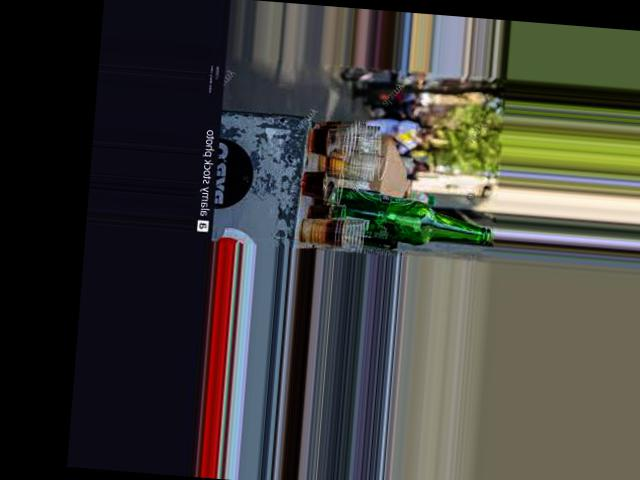beer: (316, 184, 493, 251)
